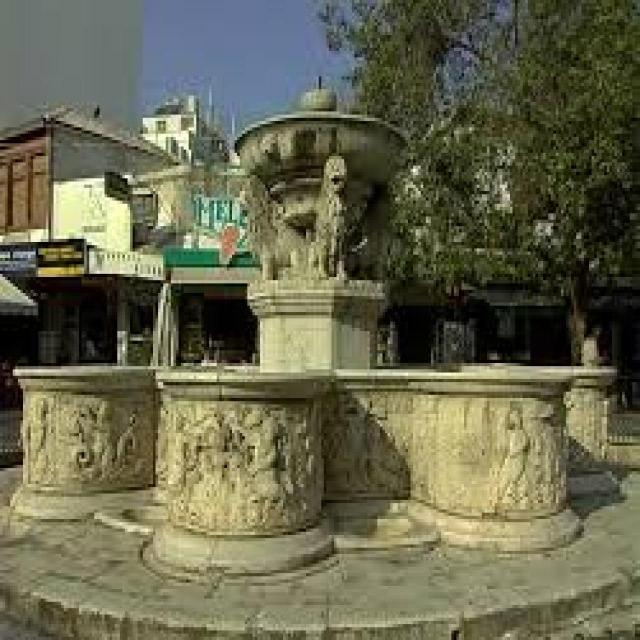Liontaria: (21, 104, 617, 555)
